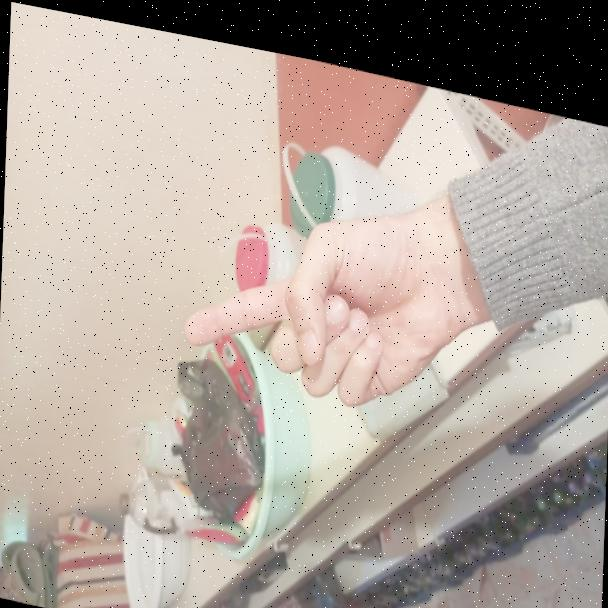one: (181, 170, 444, 427)
